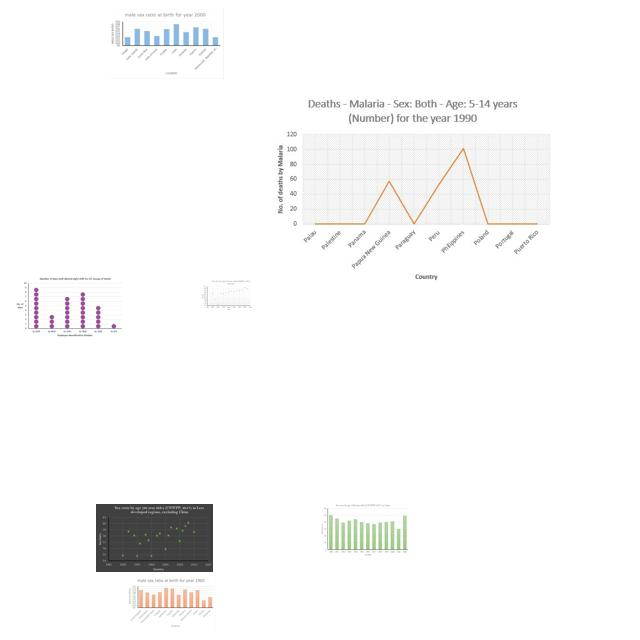Graph: (271, 93, 555, 285), (107, 9, 224, 79), (96, 504, 213, 572), (13, 276, 124, 339), (126, 576, 216, 630), (320, 503, 409, 557), (201, 279, 253, 311)
